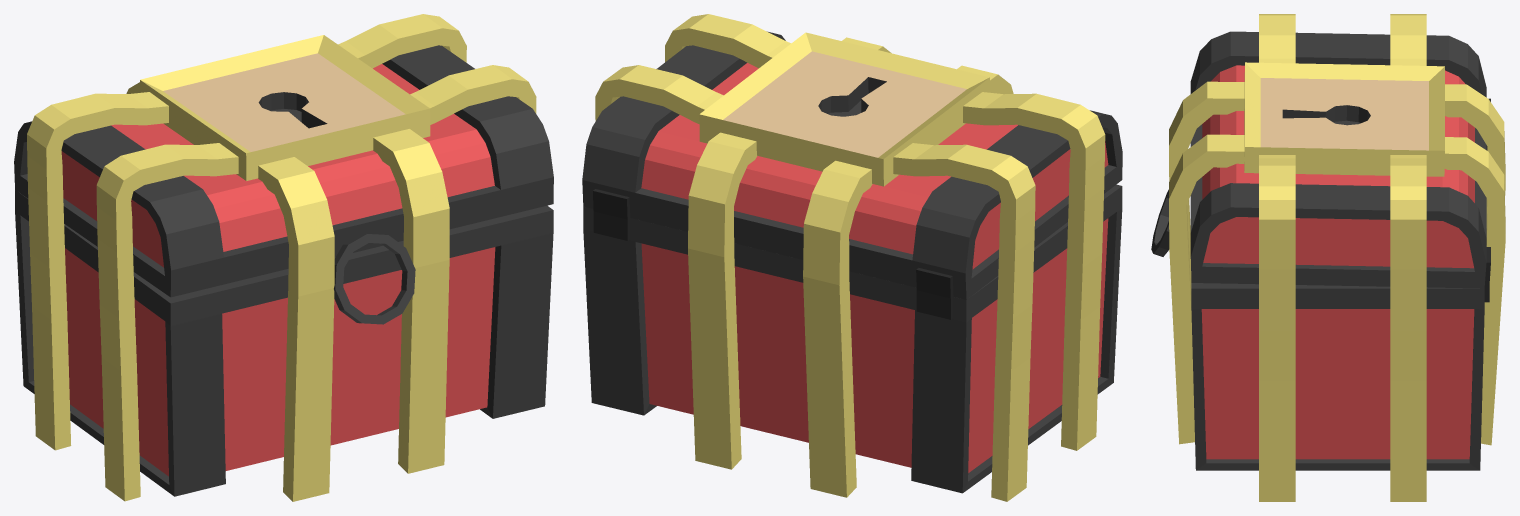
File: ClosedTreasureChest.fbx
3 views of the same model, side by side, from view 1: azimuth 30°, elevation 25°; view 2: azimuth 150°, elevation 25°; view 3: azimuth 270°, elevation 25° (orthographic). The views are drawn at different scales.
Visible parts, largest first — view 1: Mesh; view 2: Mesh; view 3: Mesh.
Boxes of the visible parts, x1,y1,x2,y2 form: Mesh: [14, 14, 553, 501]; Mesh: [582, 14, 1122, 501]; Mesh: [1151, 14, 1505, 501].
Size of the model in its own units: 1.03 by 0.7697 by 0.7972.
